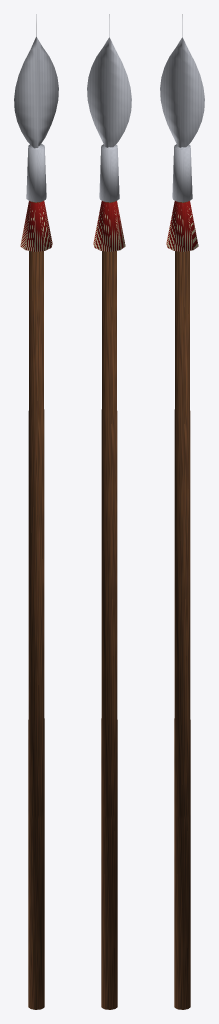
Rendered from W_spear.glb.
The picture shows the model from 3 angles, left to right: view 1: azimuth 30°, elevation 25°; view 2: azimuth 150°, elevation 25°; view 3: azimuth 330°, elevation 25°; orthographic projection.
Parts seen in each view (by area): view 1: W_spear; view 2: W_spear; view 3: W_spear.
Part boxes in pixels (<box>): W_spear: <box>14,14,58,1009</box>; W_spear: <box>87,14,131,1009</box>; W_spear: <box>160,14,204,1009</box>.
Size of the model in its own units: 0.1098 by 2.32 by 0.07.
3 materials, 3 textured.
